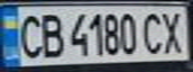0: (118, 10, 139, 56)
1: (84, 9, 106, 56)
4: (66, 9, 87, 56)
8: (103, 10, 124, 56)
B: (36, 10, 66, 60)
C: (12, 10, 45, 61), (139, 9, 166, 56)
X: (157, 8, 190, 55)
